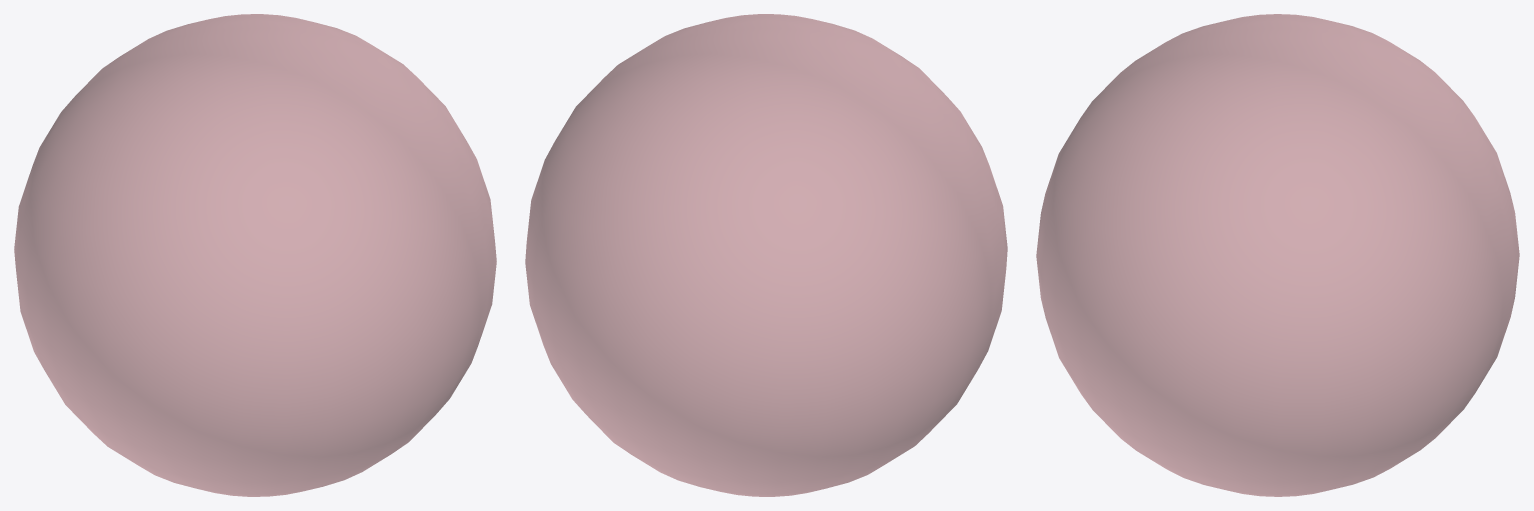
File: chicle.FBX
The picture shows the model from 3 angles, left to right: view 1: azimuth 30°, elevation 25°; view 2: azimuth 150°, elevation 25°; view 3: azimuth 270°, elevation 25°; orthographic projection.
Visible parts, largest first — view 1: Sphere299; view 2: Sphere299; view 3: Sphere299.
Boxes of the visible parts, x1,y1,x2,y2 form: Sphere299: (14, 14, 496, 496); Sphere299: (525, 14, 1007, 496); Sphere299: (1036, 14, 1519, 496).
Bounding box in the file's own units: 16 × 16 × 16.
